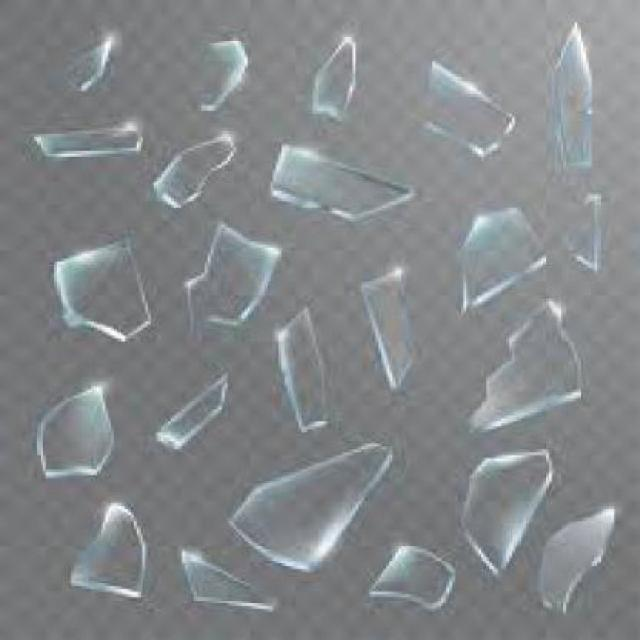kaca: (231, 442, 389, 572), (464, 299, 582, 426), (459, 450, 546, 576), (48, 231, 150, 338), (271, 140, 406, 220), (180, 220, 274, 334), (455, 204, 543, 310), (422, 60, 509, 151), (538, 506, 612, 606), (69, 496, 146, 592), (356, 262, 412, 384), (37, 382, 111, 469), (151, 128, 234, 202), (180, 543, 277, 606), (276, 302, 324, 426), (549, 20, 589, 158), (157, 370, 221, 448), (365, 543, 449, 600), (29, 120, 140, 157), (194, 34, 241, 108), (311, 34, 352, 114), (562, 190, 596, 268), (63, 36, 105, 90)
